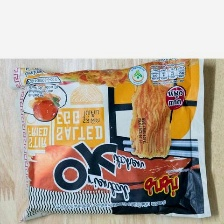snack: (5, 58, 217, 224)
